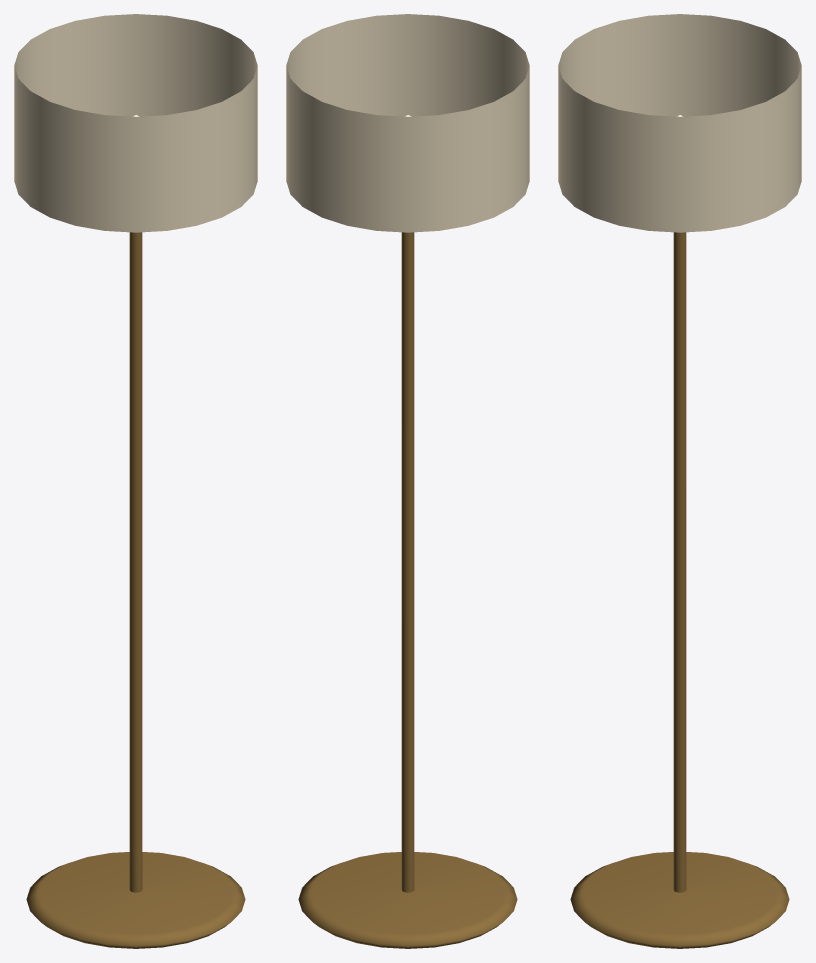
Rendered from BIB-FLP-std.glb.
The picture shows the model from 3 angles, left to right: view 1: azimuth 30°, elevation 25°; view 2: azimuth 150°, elevation 25°; view 3: azimuth 270°, elevation 25°; orthographic projection.
Visible parts, largest first — view 1: BIB-FLP-std; view 2: BIB-FLP-std; view 3: BIB-FLP-std.
Part boxes in pixels (bbox=[...]): BIB-FLP-std: bbox=[14, 14, 257, 948]; BIB-FLP-std: bbox=[286, 14, 529, 948]; BIB-FLP-std: bbox=[558, 14, 801, 948].
Size of the model in its own units: 0.42 by 1.6 by 0.42.
